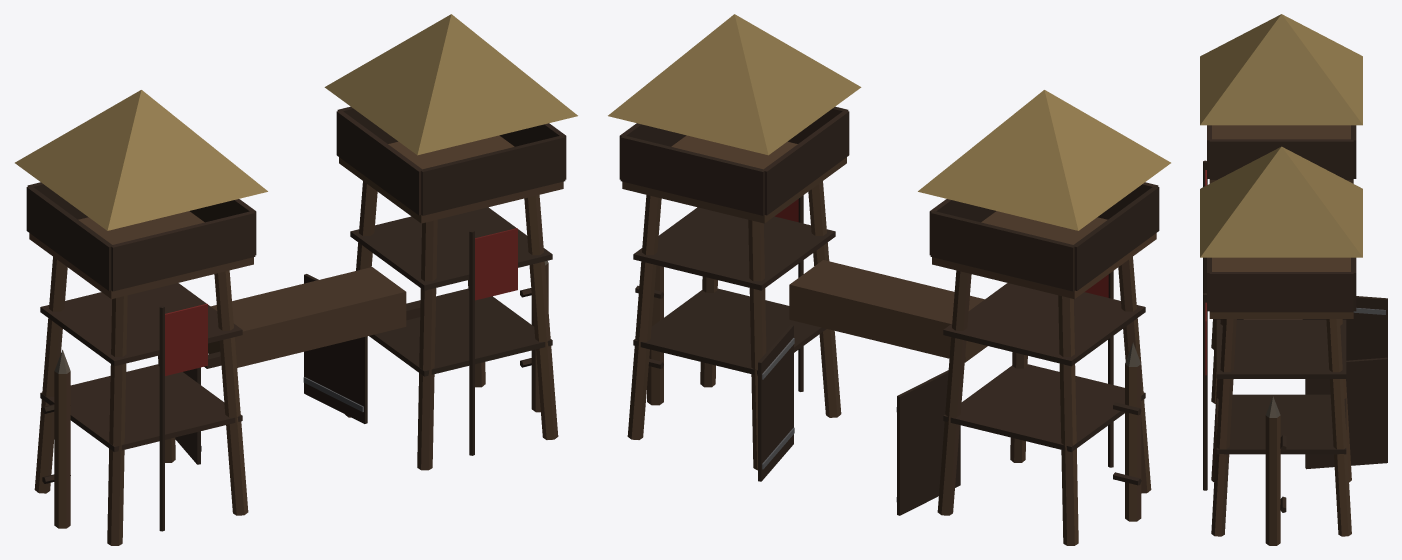
The model's file is walk_steppe_gate.glb.
3 renders of one model, left to right at view 1: azimuth 30°, elevation 25°; view 2: azimuth 150°, elevation 25°; view 3: azimuth 270°, elevation 25°, orthographic. The views are drawn at different scales.
Visible parts, largest first — view 1: walk_steppe_gate, walk_steppe_gate_roof, walk_steppe_gate_door1, walk_steppe_gate_door0; view 2: walk_steppe_gate, walk_steppe_gate_roof, walk_steppe_gate_door0, walk_steppe_gate_door1; view 3: walk_steppe_gate, walk_steppe_gate_roof, walk_steppe_gate_door1, walk_steppe_gate_door0.
Part boxes in pixels (x1=…): walk_steppe_gate: x1=26, y1=106, x2=566, y2=545; walk_steppe_gate_roof: x1=15, y1=14, x2=577, y2=230; walk_steppe_gate_door1: x1=303, y1=274, x2=367, y2=423; walk_steppe_gate_door0: x1=175, y1=367, x2=201, y2=464; walk_steppe_gate: x1=619, y1=106, x2=1159, y2=545; walk_steppe_gate_roof: x1=608, y1=14, x2=1170, y2=230; walk_steppe_gate_door0: x1=896, y1=370, x2=960, y2=515; walk_steppe_gate_door1: x1=758, y1=325, x2=794, y2=481; walk_steppe_gate: x1=1203, y1=125, x2=1356, y2=545; walk_steppe_gate_roof: x1=1200, y1=14, x2=1362, y2=257; walk_steppe_gate_door1: x1=1305, y1=357, x2=1387, y2=469; walk_steppe_gate_door0: x1=1305, y1=296, x2=1387, y2=360.
Size of what is drawn, in the model's own units: 12 by 9.41 by 4.43.
Materials: 2 (2 with a texture image).
